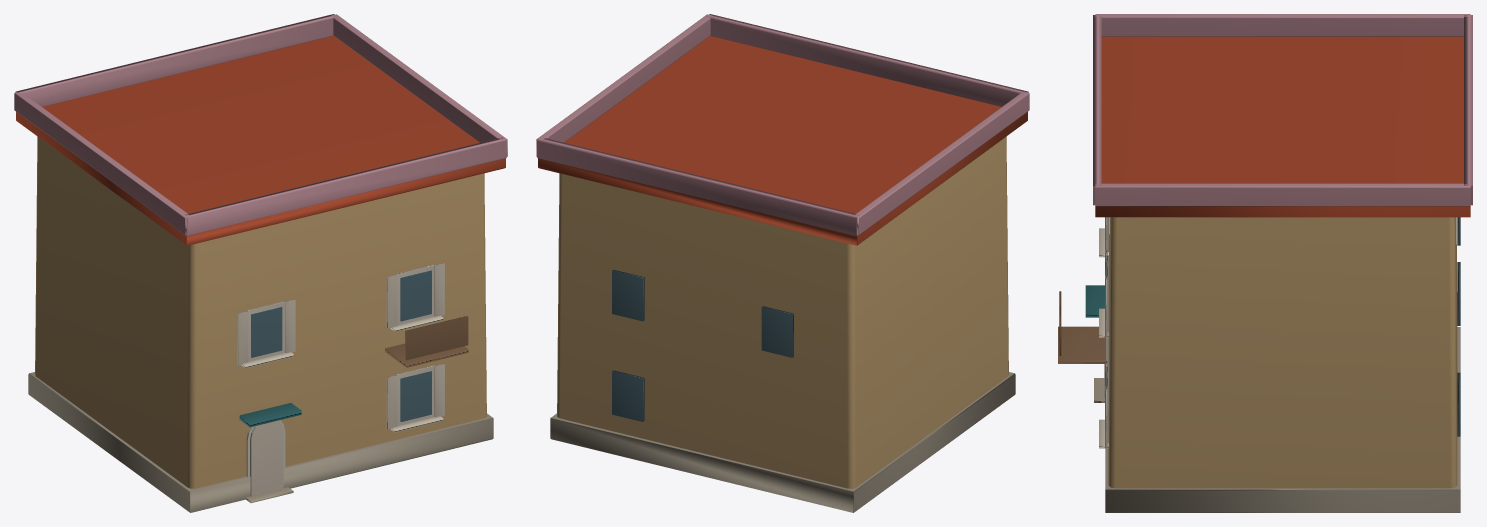
File: house_08.glb
The picture shows the model from 3 angles, left to right: view 1: azimuth 30°, elevation 25°; view 2: azimuth 150°, elevation 25°; view 3: azimuth 270°, elevation 25°; orthographic projection. The views are drawn at different scales.
Parts seen in each view (by area): view 1: house_08; view 2: house_08; view 3: house_08.
Boxes of the visible parts, x1,y1,x2,y2 form: house_08: (14,14,507,512); house_08: (536,14,1029,512); house_08: (1058,14,1472,512).
Size of the model in its own units: 9.4 by 8.43 by 9.5.
